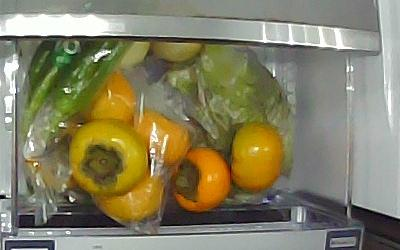persimmon: (67, 119, 148, 196), (229, 121, 286, 194), (171, 147, 230, 213)
persimmon_vinyl: (89, 168, 163, 226), (133, 110, 191, 167), (87, 70, 136, 121)
